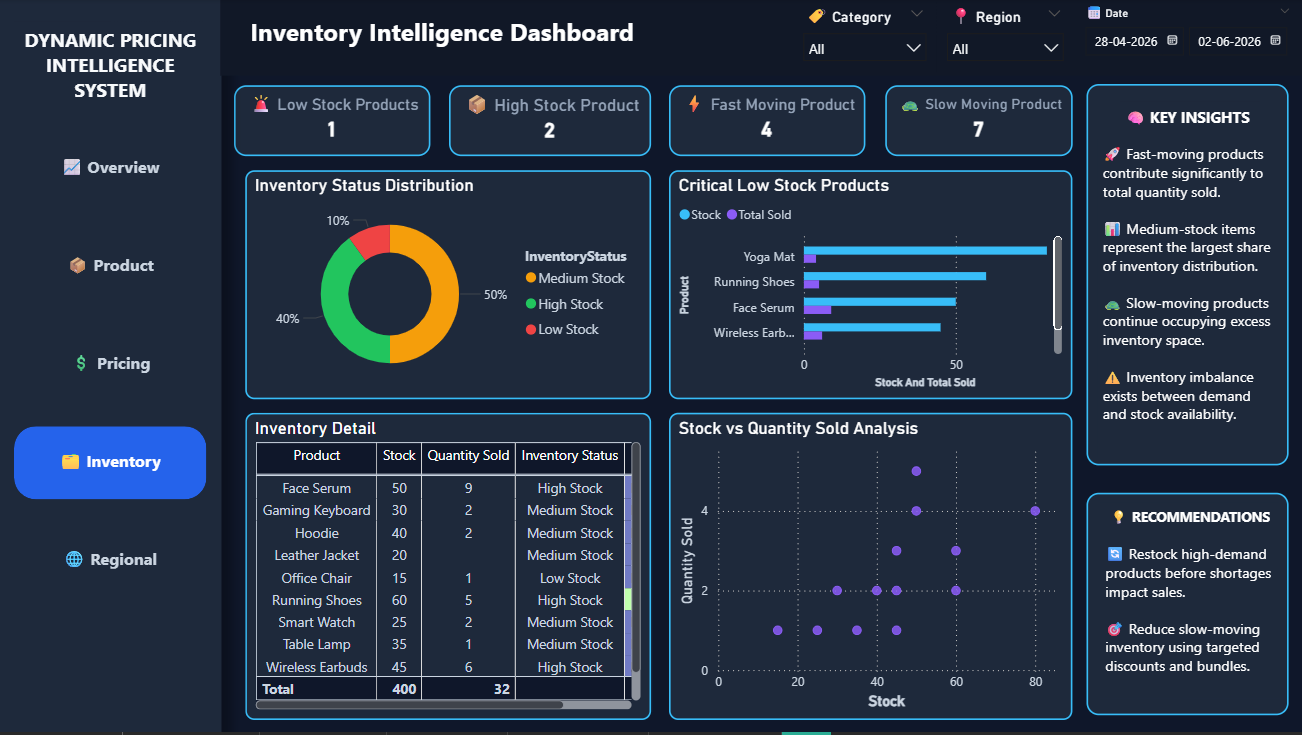

The page's visual inventory and layout, read from the dashboard file:
{"tool":"powerbi","page":{"name":"🗂️ Inventory","canvas":[1280,720],"ordinal":3},"visuals":[{"type":"card","title":"🚨 Low Stock Products","fields":{"Values":["sales.Low Stock Products"]},"box":[230.7,84.7,192.6,69.9],"z":0},{"type":"card","title":"📦 High Stock Product","fields":{"Values":["sales.High Stock Products"]},"box":[441.7,84.7,198.8,69.9],"z":1000},{"type":"card","title":"⚡ Fast Moving Product","fields":{"Values":["sales.Fast Moving Products"]},"box":[657.7,84.7,192.6,69.9],"z":2000},{"type":"card","title":"🐢 Slow Moving Product","fields":{"Values":["sales.Slow Moving Products"]},"box":[869.9,84.7,184.1,69.9],"z":3000},{"type":"donutChart","title":"Inventory Status Distribution","fields":{"Category":["product.InventoryStatus"],"Y":["CountNonNull(product.prodID)"]},"box":[241.7,168.1,398.8,224.5],"z":4000},{"type":"clusteredBarChart","title":"Critical Low Stock Products","fields":{"Category":["product.prodName"],"Y":["Sum(product.stock)","sales.Total Sold"]},"box":[657.7,168.1,396.3,224.5],"z":5000},{"type":"scatterChart","title":"Stock vs Quantity Sold Analysis","fields":{"X":["product.stock"],"Y":["sales.quantitySold"]},"box":[657.7,406.1,396.3,301.8],"z":6000},{"type":"tableEx","title":"Inventory Detail","fields":{"Values":["product.prodName","Sum(product.stock)","Sum(sales.quantitySold)","product.InventoryStatus","product.Risk Level"]},"box":[241.7,406.1,398.8,301.8],"z":7000},{"type":"textbox","box":[0,0,218.4,720.2],"z":8000},{"type":"textbox","box":[217.2,0,1062.6,75],"z":9000},{"type":"pageNavigator","box":[14.9,131.9,189.1,456.5],"z":10000},{"type":"textbox","box":[14.9,22.4,189.1,88.3],"z":11000},{"type":"textbox","box":[241.7,11,469.9,50.3],"z":12000},{"type":"slicer","fields":{"Values":["category.categoryName"]},"box":[779.1,0,141.1,72.4],"z":13000},{"type":"slicer","fields":{"Values":["sales.region"]},"box":[920.3,0,135,72.4],"z":14000},{"type":"slicer","fields":{"Values":["dates.Date"]},"box":[1054,0,225.8,72.4],"z":15000},{"type":"textbox","box":[1067.5,83.4,198.8,374.2],"z":16000},{"type":"textbox","box":[1100.6,100.6,137.4,30.7],"z":17000},{"type":"textbox","box":[1078.5,137.4,181.6,312.9],"z":18000},{"type":"textbox","box":[1067.5,484.7,198.8,218.4],"z":19000},{"type":"textbox","box":[1081,494.5,175.5,35.6],"z":20000},{"type":"textbox","box":[1081,530.1,181.6,157.1],"z":21000}]}

Visuals, with their boxes on the page's 1280x720 design canvas (x1, y1, x2, y2). These are canvas units, not pixel positions in the 1302x735 screenshot, which may show the page scaled, cropped or inside an application window:
"🚨 Low Stock Products" card: <box>231,85,423,155</box>
"📦 High Stock Product" card: <box>442,85,640,155</box>
"⚡ Fast Moving Product" card: <box>658,85,850,155</box>
"🐢 Slow Moving Product" card: <box>870,85,1054,155</box>
"Inventory Status Distribution" donutChart: <box>242,168,640,393</box>
"Critical Low Stock Products" clusteredBarChart: <box>658,168,1054,393</box>
"Stock vs Quantity Sold Analysis" scatterChart: <box>658,406,1054,708</box>
"Inventory Detail" tableEx: <box>242,406,640,708</box>
textbox: <box>0,0,218,720</box>
textbox: <box>217,0,1280,75</box>
pageNavigator: <box>15,132,204,588</box>
textbox: <box>15,22,204,111</box>
textbox: <box>242,11,712,61</box>
slicer - category.categoryName: <box>779,0,920,72</box>
slicer - sales.region: <box>920,0,1055,72</box>
slicer - dates.Date: <box>1054,0,1280,72</box>
textbox: <box>1068,83,1266,458</box>
textbox: <box>1101,101,1238,131</box>
textbox: <box>1078,137,1260,450</box>
textbox: <box>1068,485,1266,703</box>
textbox: <box>1081,494,1256,530</box>
textbox: <box>1081,530,1263,687</box>
